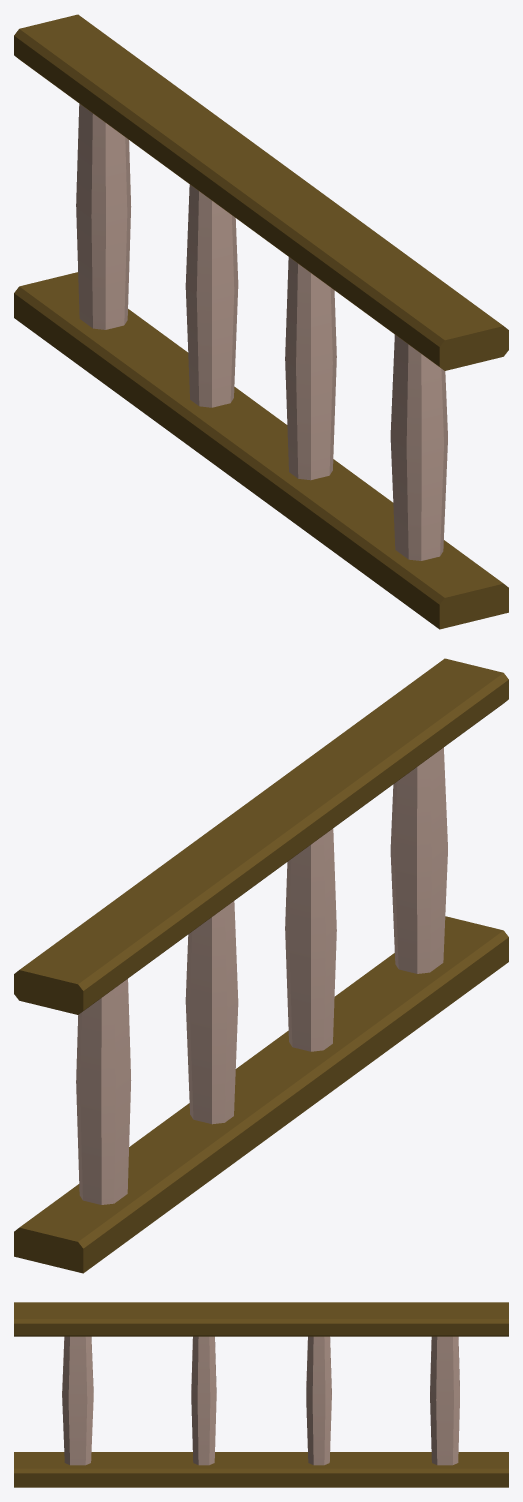
Rendered from WoodenRail.fbx.
3 renders of one model, top to bottom at view 1: azimuth 30°, elevation 25°; view 2: azimuth 150°, elevation 25°; view 3: azimuth 270°, elevation 25°, orthographic. The views are drawn at different scales.
Parts seen in each view (by area): view 1: pCube319; view 2: pCube319; view 3: pCube319.
Boxes of the visible parts, x1=… form: pCube319: x1=14, y1=14, x2=508, y2=629; pCube319: x1=14, y1=658, x2=508, y2=1273; pCube319: x1=14, y1=1302, x2=508, y2=1487.
Size of the model in its own units: 0.2823 by 1.12 by 3.
